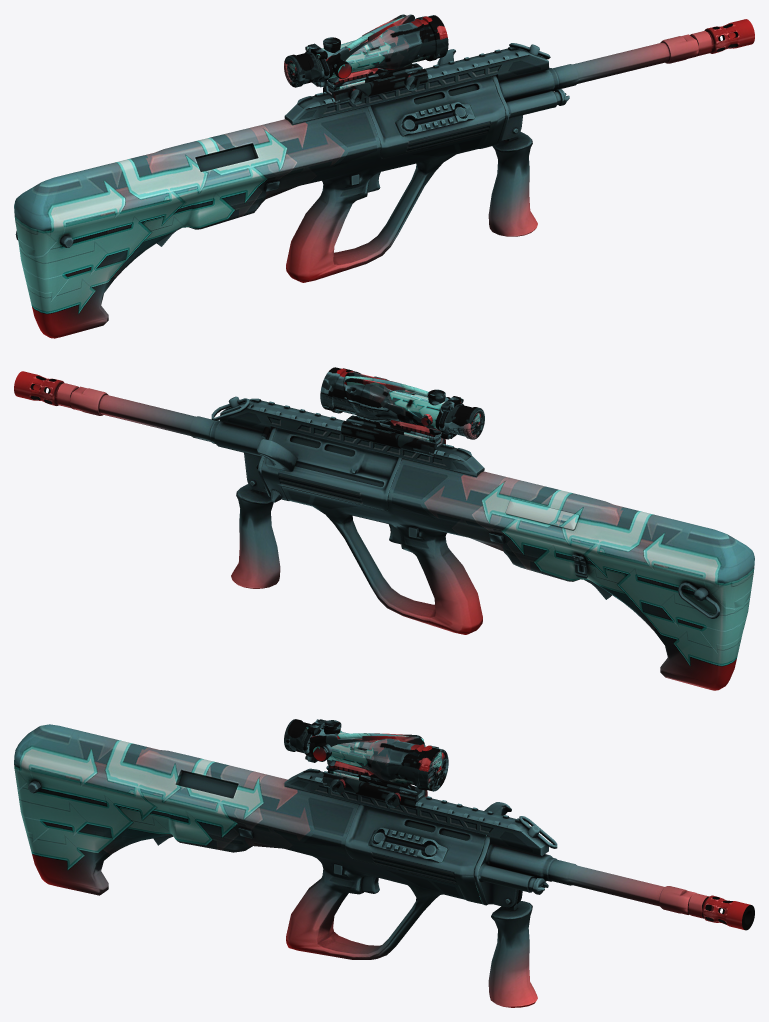
File: w_specialcarbine_momentum.glb
The picture shows the model from 3 angles, top to bottom: view 1: azimuth 30°, elevation 25°; view 2: azimuth 150°, elevation 25°; view 3: azimuth 330°, elevation 25°; orthographic projection.
Visible parts, largest first — view 1: Gun_Root; view 2: Gun_Root; view 3: Gun_Root.
Boxes of the visible parts, box(x1,y1,x2,y2) form: Gun_Root: box(14, 14, 754, 338); Gun_Root: box(14, 367, 754, 690); Gun_Root: box(14, 719, 754, 1007).
Size of the model in its own units: 0.7456 by 0.2318 by 0.0913.
1 material, 1 textured.
